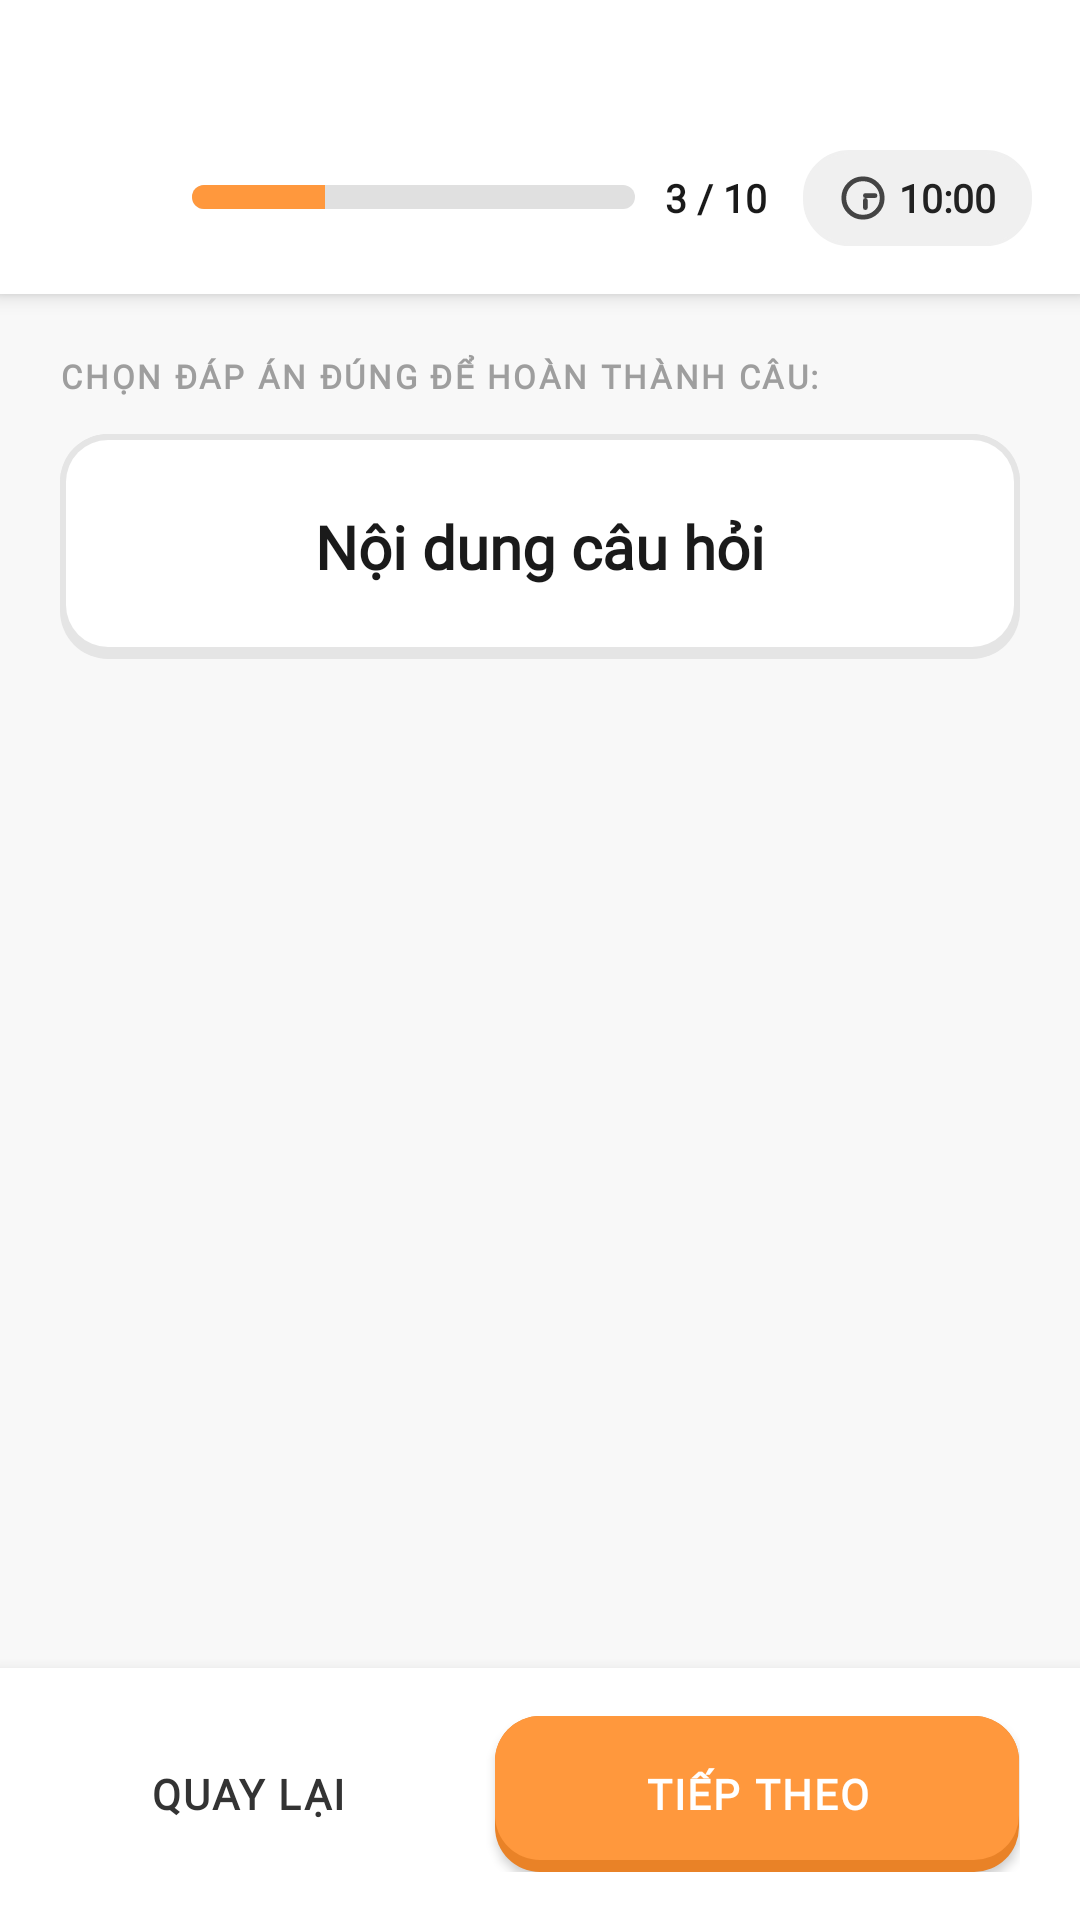

Point at icon controls on the screen. Image size 1080x1920, points as (x=x, y=y).
clock: (x=863, y=198)
